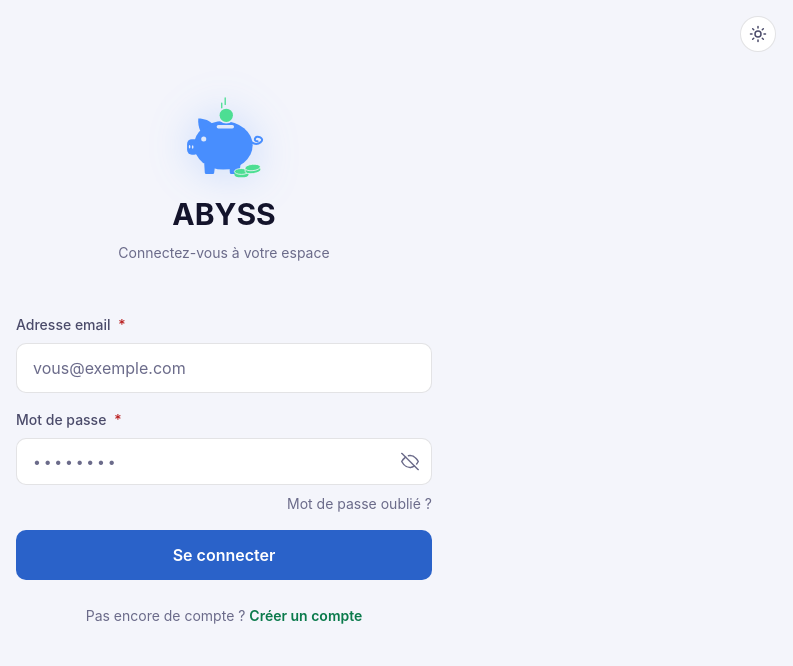
Test case: LoginPage — échec › affiche le message d'erreur de l'API
Type "alice@example.com" into the field with id "login-email" at [224, 368], box x1=16 y1=343 x2=432 y2=393
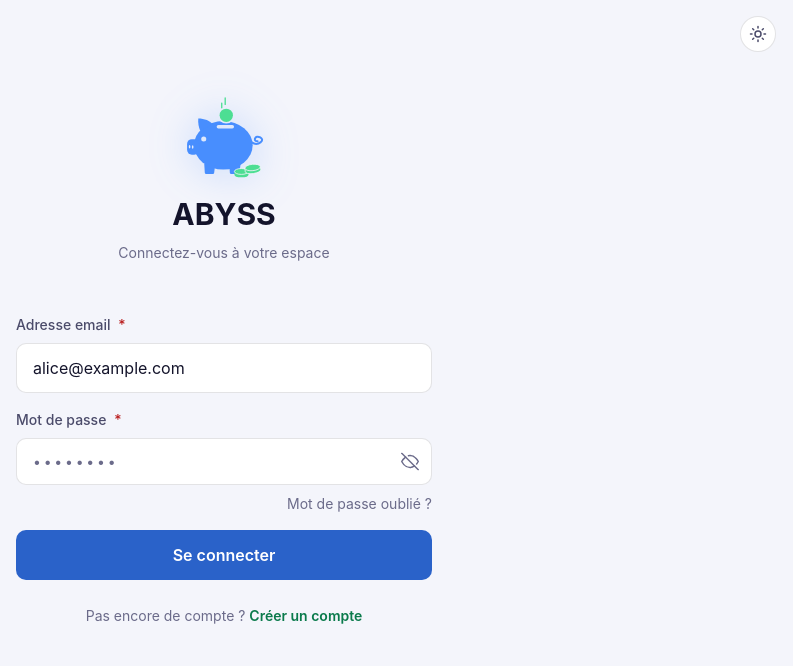
Type "mauvais" into the password field with id "login-password" at [224, 461], box x1=16 y1=438 x2=432 y2=485
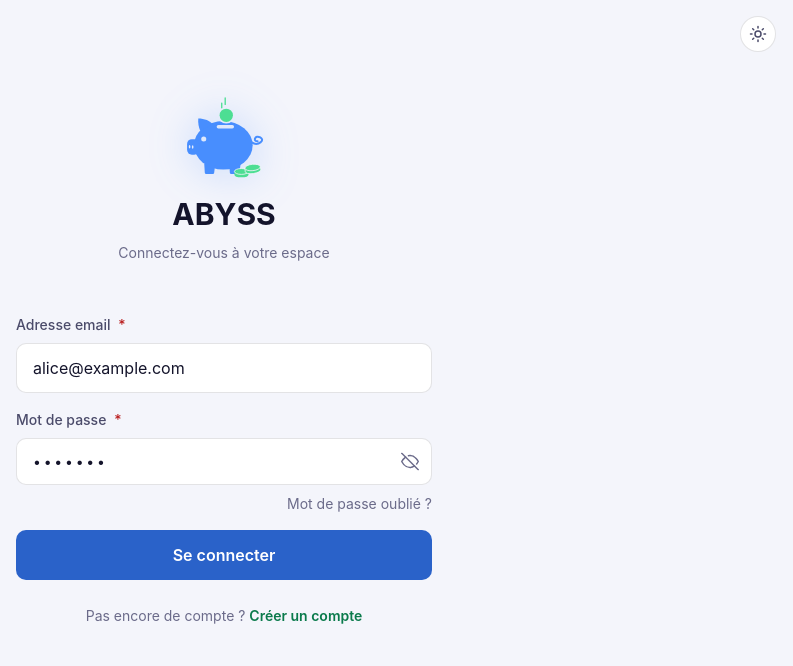
Submit the form, box x1=16 y1=314 x2=432 y2=580
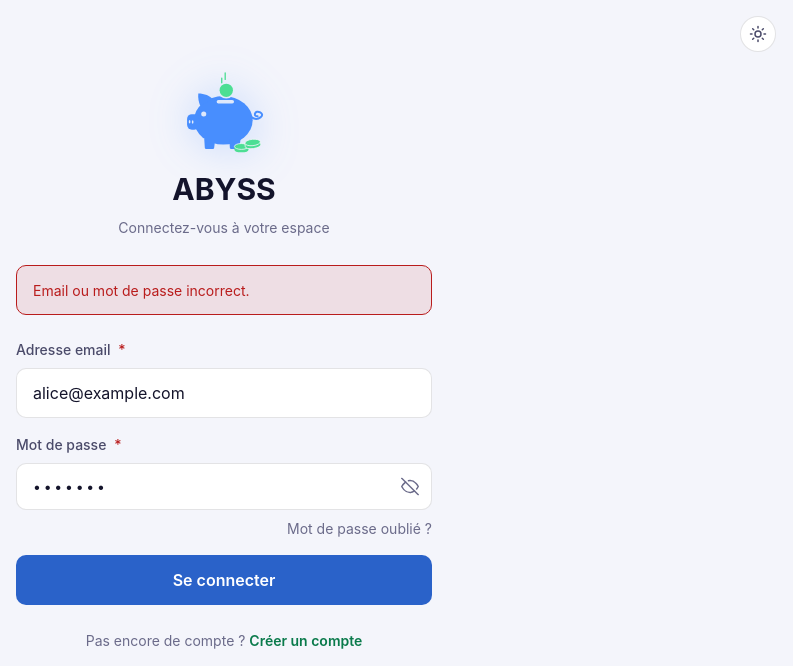
Result: the message "Email ou mot de passe incorrect." is shown at x1=16 y1=265 x2=432 y2=315
